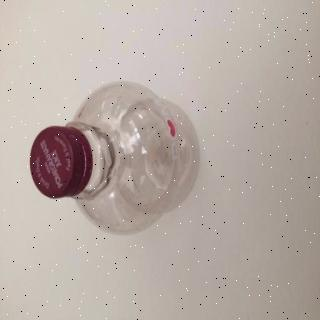Plastic-bottle: (29, 79, 204, 240)
